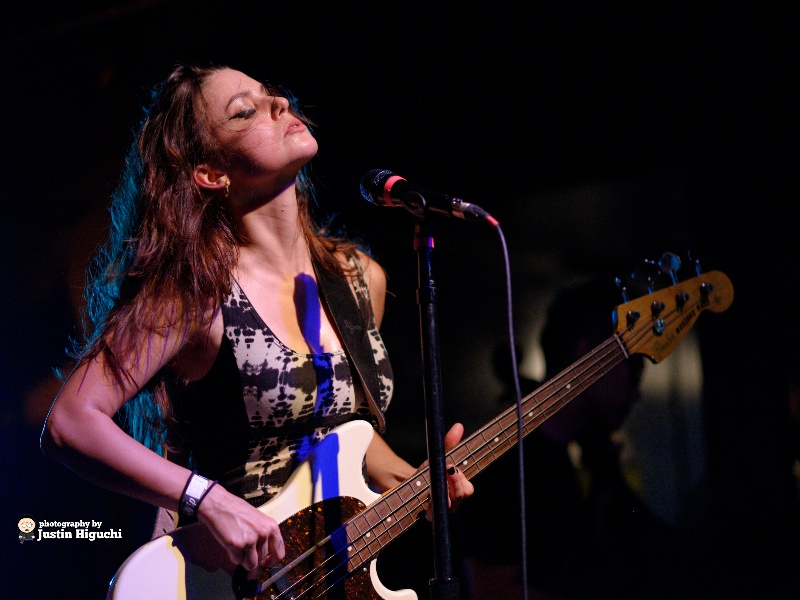face: (187, 66, 330, 197)
